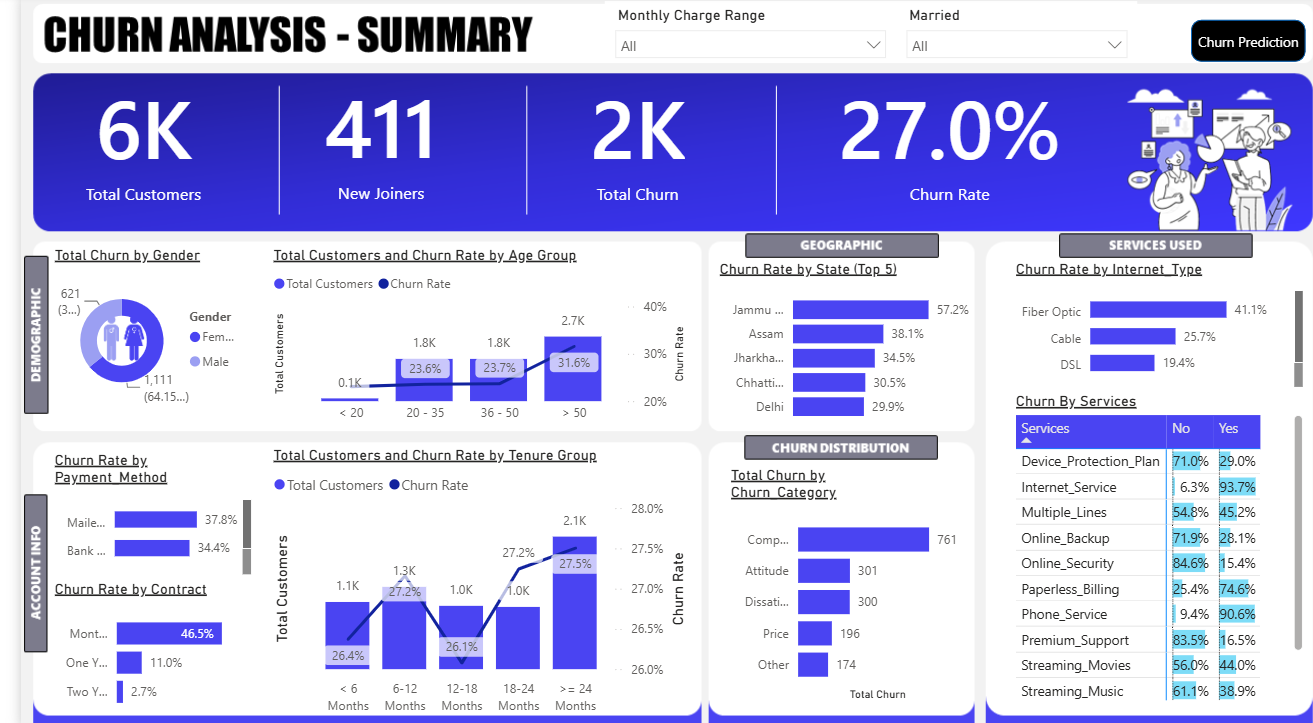

The page's visual inventory and layout, read from the dashboard file:
{"tool":"powerbi","page":{"name":"Summary","canvas":[1280,720],"ordinal":0},"visuals":[{"type":"image","box":[72.5,296.2,57.5,78.8],"z":0},{"type":"cardVisual","fields":{"Data":["tbl_Measures.Total Customers"]},"box":[10,52.5,221.2,172.5],"z":1000},{"type":"cardVisual","fields":{"Data":["tbl_Measures.New Joiners"]},"box":[242.5,46.2,221.2,183.8],"z":2000},{"type":"cardVisual","fields":{"Data":["tbl_Measures.Churn Rate"]},"box":[761.2,52.5,302.5,172.5],"z":3000},{"type":"cardVisual","fields":{"Data":["tbl_Measures.Total Churn"]},"box":[458.8,55,293.8,167.5],"z":4000},{"type":"donutChart","fields":{"Category":["db_churn prod_churn.Gender"],"Y":["tbl_Measures.Total Churn"]},"box":[28.8,245.6,203.1,168.8],"z":5000},{"type":"lineStackedColumnComboChart","fields":{"Category":["Mapping_AgeGrp.Age Group"],"Y":["tbl_Measures.Total Customers"],"Y2":["tbl_Measures.Churn Rate"]},"box":[242.9,245.6,414.4,182.5],"z":6000},{"type":"clusteredBarChart","fields":{"Category":["prod_churn.Payment_Method"],"Y":["tbl_Measures.Churn Rate"]},"box":[28.8,446.2,202.5,126.2],"z":7000},{"type":"clusteredBarChart","fields":{"Category":["prod_churn.Contract"],"Y":["tbl_Measures.Churn Rate"]},"box":[28.8,572.5,213.8,138.8],"z":8000},{"type":"lineStackedColumnComboChart","fields":{"Category":["mapping_TenureGrp.Tenure Group"],"Y":["tbl_Measures.Total Customers"],"Y2":["tbl_Measures.Churn Rate"]},"box":[242.5,441.2,415,270],"z":9000},{"type":"clusteredBarChart","title":"Churn Rate by State (Top 5)","fields":{"Category":["prod_Churn.State"],"Y":["tbl_Measures.Churn Rate"]},"box":[681.2,258.8,255,168.8],"z":10000},{"type":"clusteredBarChart","fields":{"Category":["prod_Churn.Churn_Category"],"Y":["tbl_Measures.Total Churn"]},"box":[692.5,461.2,232.5,235],"z":11000},{"type":"clusteredBarChart","fields":{"Category":["prod_Churn.Internet_Type"],"Y":["tbl_Measures.Churn Rate"]},"box":[971.2,258.8,291.2,130],"z":12000},{"type":"pivotTable","title":"Churn By Services","fields":{"Rows":["prod_Services.Services"],"Columns":["prod_Services.Status"],"Values":["Sum(prod_Services.Churn Status)"]},"box":[971.2,388.8,291.2,307.5],"z":13000},{"type":"slicer","fields":{"Values":["prod_Churn.Monthly Charge Range"]},"box":[572.6,4.4,286.3,61],"z":14000},{"type":"slicer","fields":{"Values":["prod_Churn.Married"]},"box":[858.9,4.4,236.9,61],"z":15000},{"type":"shape","box":[1148.8,23.8,112.5,41.2],"z":16000}]}

Visuals, with their boxes in screenshot pixels (x1, y1, x2, y2), scaled from the page's 1280x720 canvas onto the 1313x723 screenshot:
image: Rect(74, 297, 133, 377)
cardVisual - tbl_Measures.Total Customers: Rect(10, 53, 237, 226)
cardVisual - tbl_Measures.New Joiners: Rect(249, 46, 476, 231)
cardVisual - tbl_Measures.Churn Rate: Rect(781, 53, 1091, 226)
cardVisual - tbl_Measures.Total Churn: Rect(471, 55, 772, 223)
donutChart - db_churn prod_churn.Gender x tbl_Measures.Total Churn: Rect(30, 247, 238, 416)
lineStackedColumnComboChart - Mapping_AgeGrp.Age Group x tbl_Measures.Total Customers: Rect(249, 247, 674, 430)
clusteredBarChart - prod_churn.Payment_Method x tbl_Measures.Churn Rate: Rect(30, 448, 237, 575)
clusteredBarChart - prod_churn.Contract x tbl_Measures.Churn Rate: Rect(30, 575, 249, 714)
lineStackedColumnComboChart - mapping_TenureGrp.Tenure Group x tbl_Measures.Total Customers: Rect(249, 443, 674, 714)
"Churn Rate by State (Top 5)" clusteredBarChart: Rect(699, 260, 960, 429)
clusteredBarChart - prod_Churn.Churn_Category x tbl_Measures.Total Churn: Rect(710, 463, 949, 699)
clusteredBarChart - prod_Churn.Internet_Type x tbl_Measures.Churn Rate: Rect(996, 260, 1295, 390)
"Churn By Services" pivotTable: Rect(996, 390, 1295, 699)
slicer - prod_Churn.Monthly Charge Range: Rect(587, 4, 881, 66)
slicer - prod_Churn.Married: Rect(881, 4, 1124, 66)
shape: Rect(1178, 24, 1294, 65)
